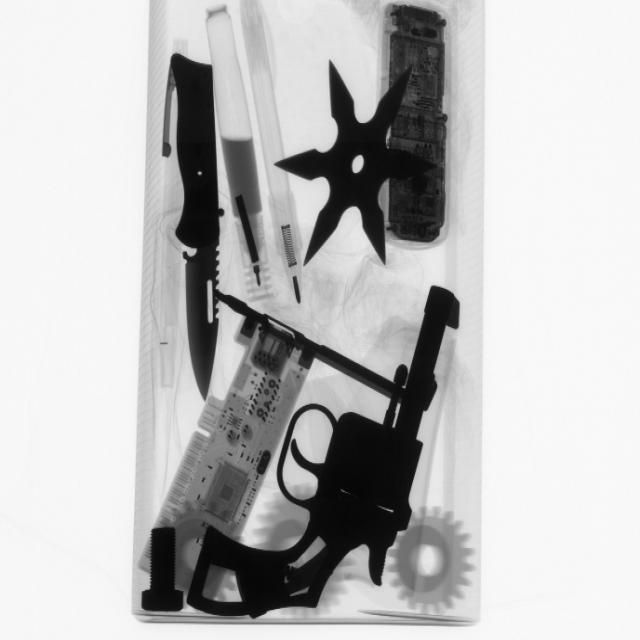GUN: (181, 278, 463, 630)
KNIFE: (160, 55, 236, 394)
SHURIKEN: (276, 53, 434, 269)
